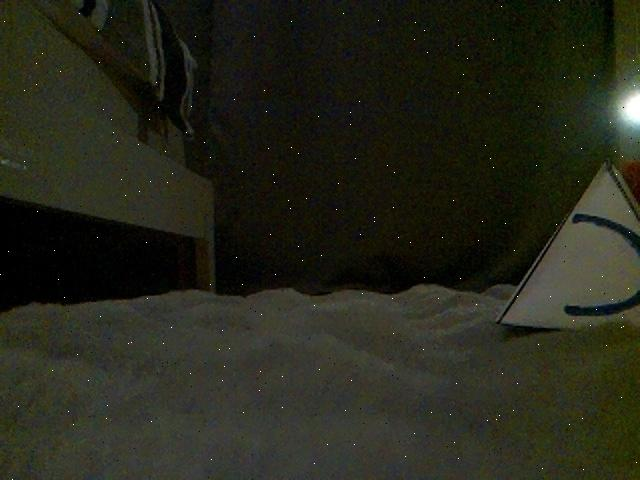C: (499, 158, 640, 334)
